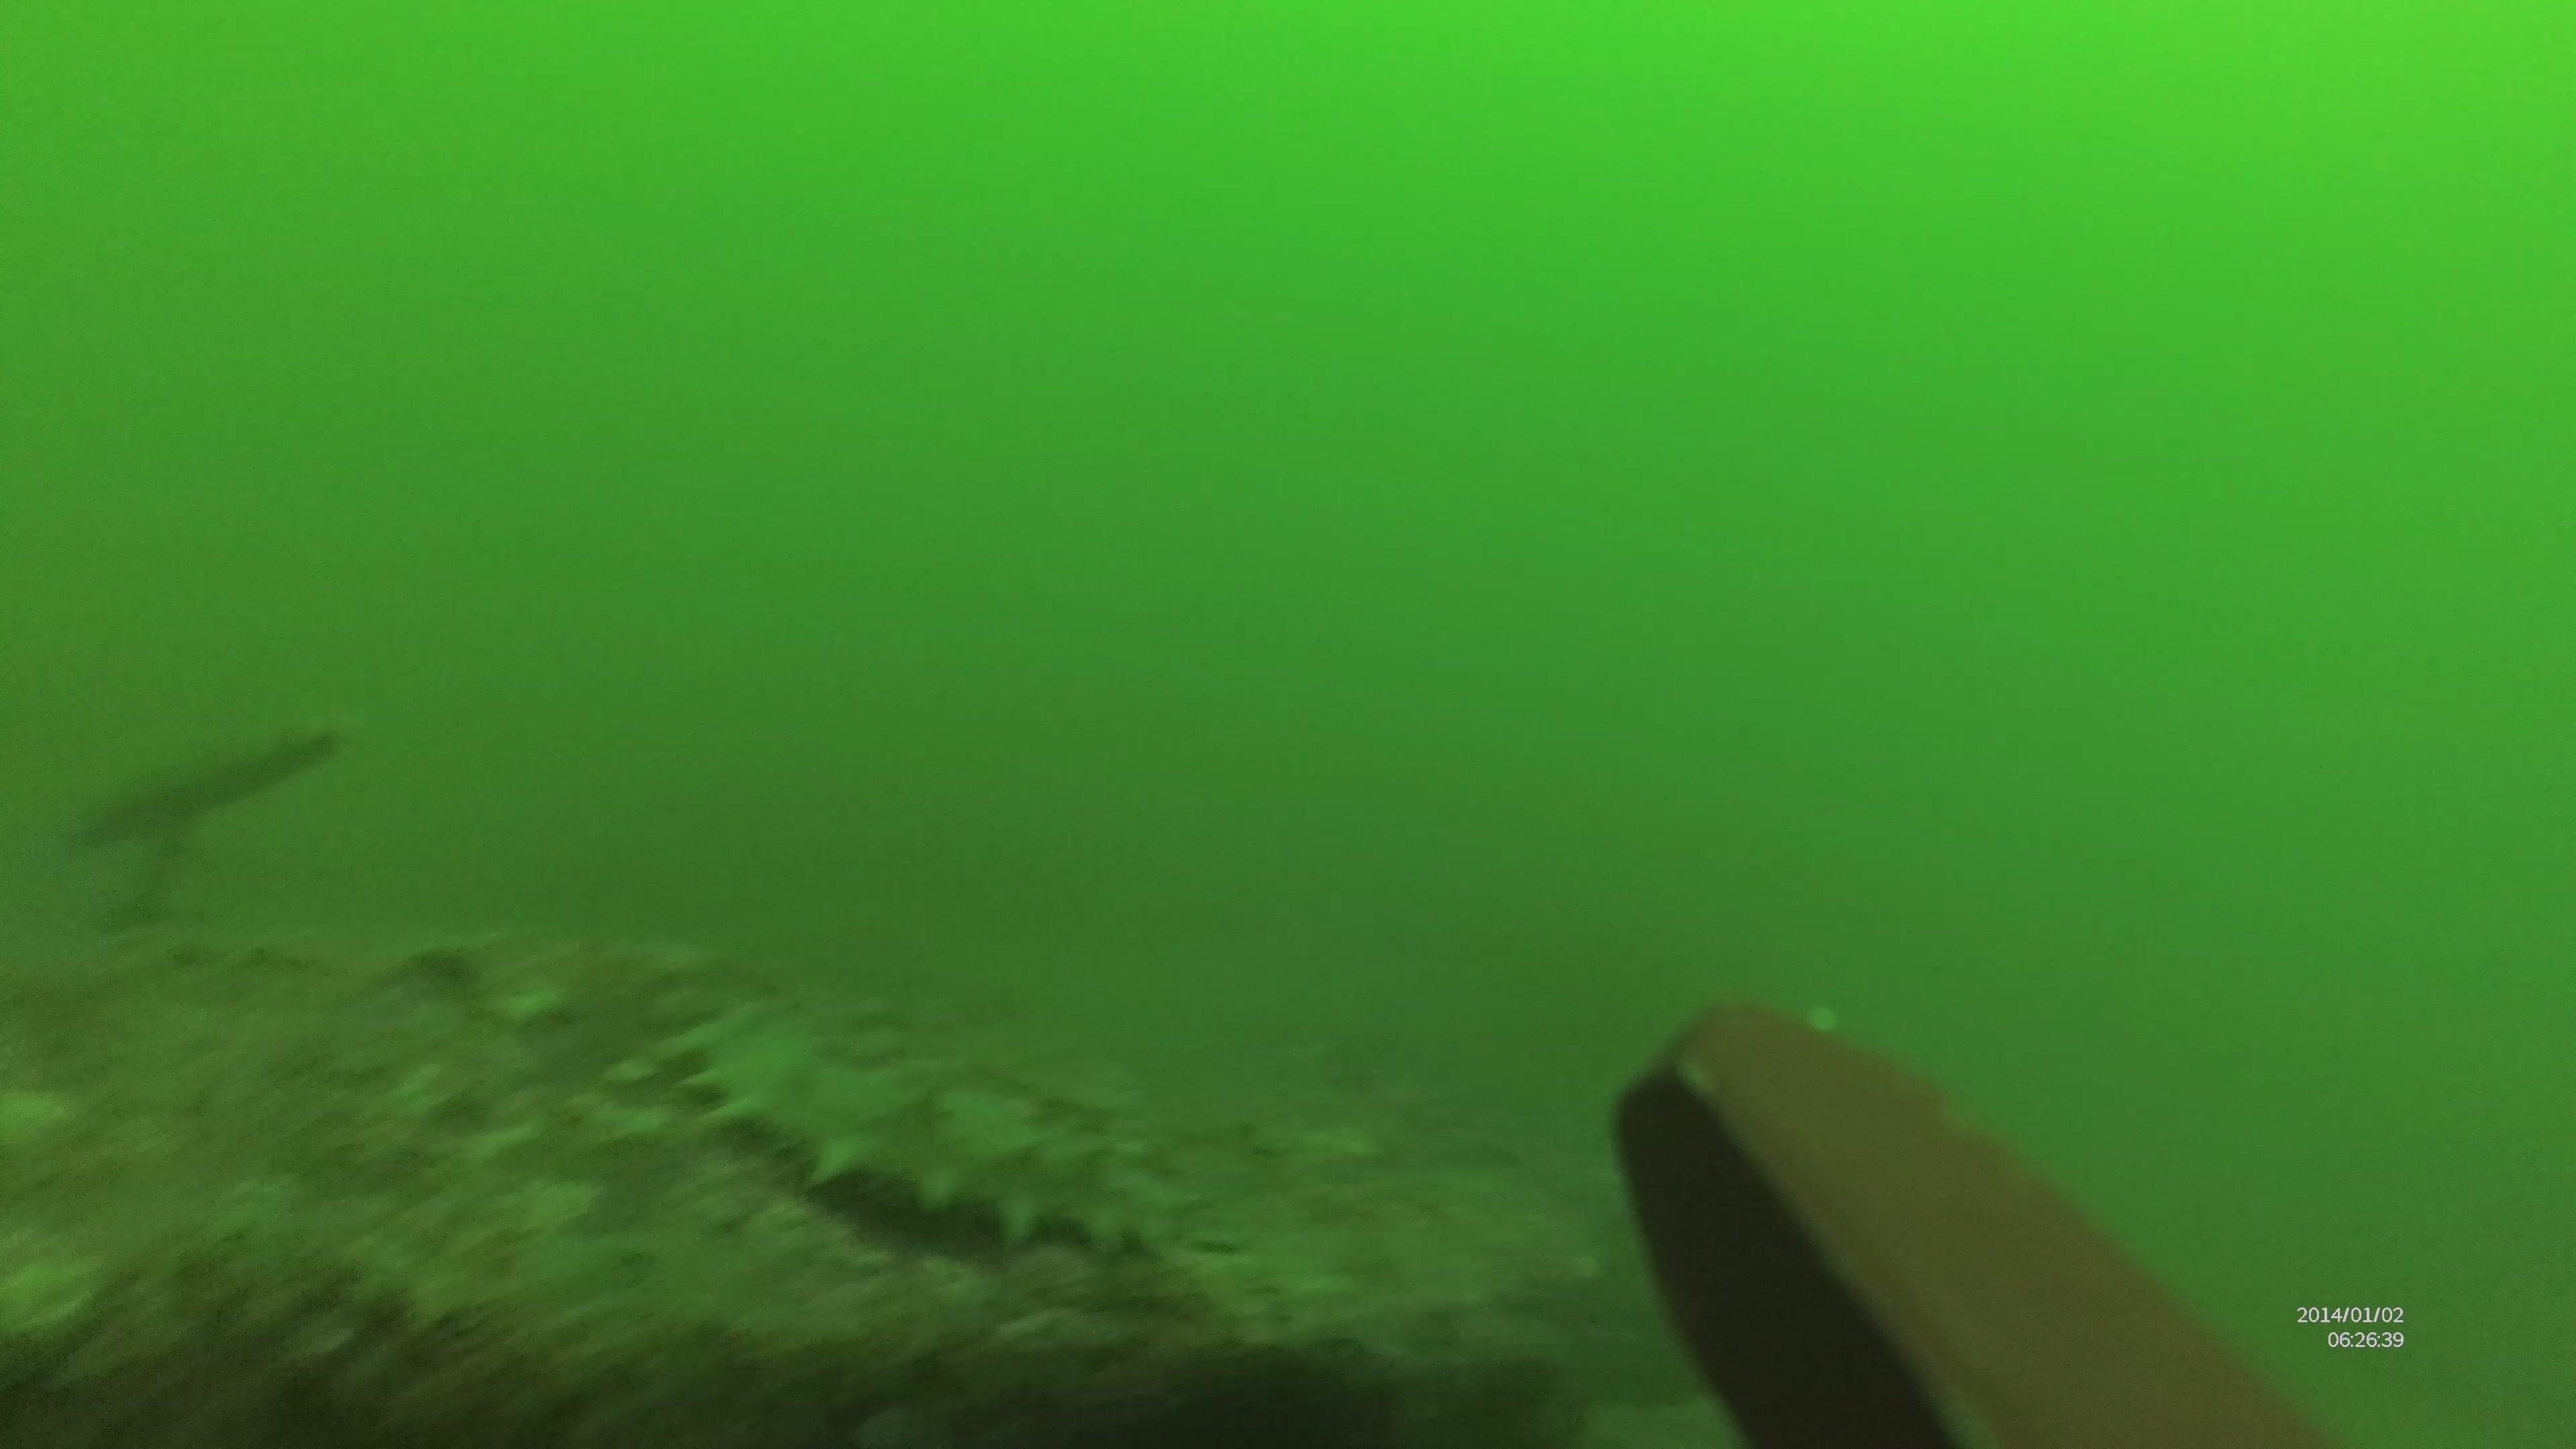holothurian: (646, 985, 1191, 1261)
